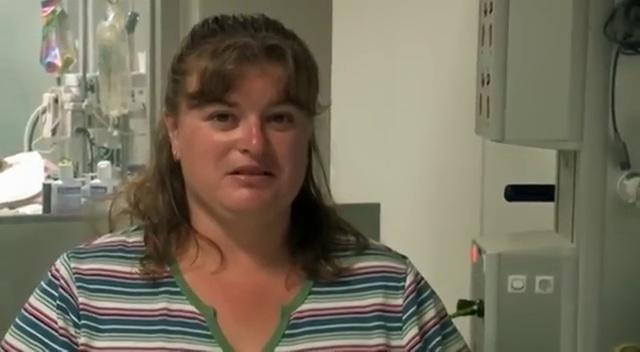others: (0, 11, 473, 351)
